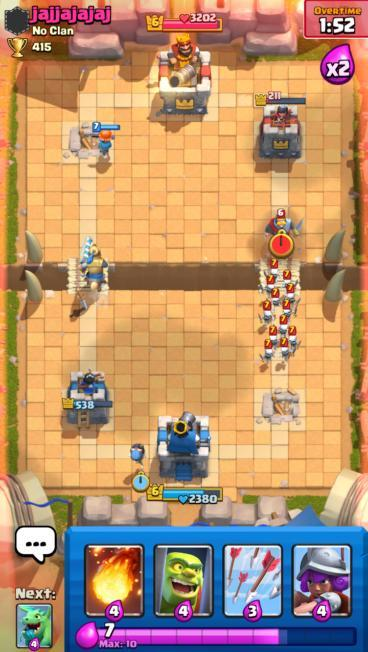EKingTower: (159, 39, 210, 114)
EKnight: (265, 208, 301, 235)
ELarry: (260, 299, 273, 326), (283, 283, 295, 306), (263, 276, 276, 297), (289, 326, 299, 352), (279, 337, 289, 361), (262, 339, 272, 361), (269, 325, 278, 349), (282, 298, 292, 318), (279, 315, 288, 337), (270, 259, 279, 281)
EnemyPrincessTower: (258, 103, 301, 160)
OBomber: (130, 443, 144, 465)
OPrince: (79, 237, 108, 292)
OValk: (98, 129, 113, 159)
OwnKingTower: (157, 412, 210, 481)
OwnPrincessTower: (62, 370, 111, 427)
TowerDown: (253, 387, 307, 428), (61, 124, 95, 162)
